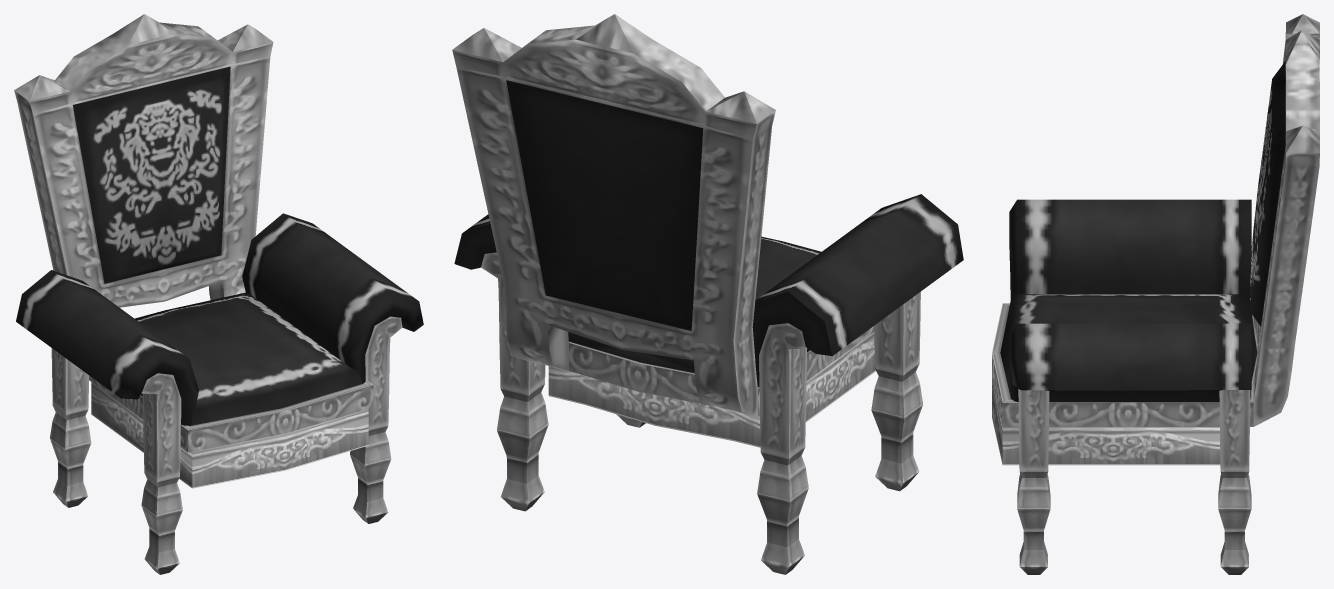
The model's file is KingChair_HD.fbx.
3 views of the same model, side by side, from view 1: azimuth 30°, elevation 25°; view 2: azimuth 150°, elevation 25°; view 3: azimuth 270°, elevation 25° (orthographic). The views are drawn at different scales.
Parts seen in each view (by area): view 1: KingChair; view 2: KingChair; view 3: KingChair.
Boxes of the visible parts, x1,y1,x2,y2 form: KingChair: (14,14,423,574); KingChair: (452,14,963,574); KingChair: (992,14,1319,574).
Size of the model in its own units: 0.7385 by 1.03 by 0.631.
